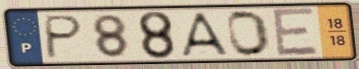8: (137, 9, 177, 61), (89, 13, 131, 59)
A: (178, 11, 232, 59)
E: (270, 7, 321, 59)
O: (225, 9, 273, 58)
P: (44, 14, 86, 61)
